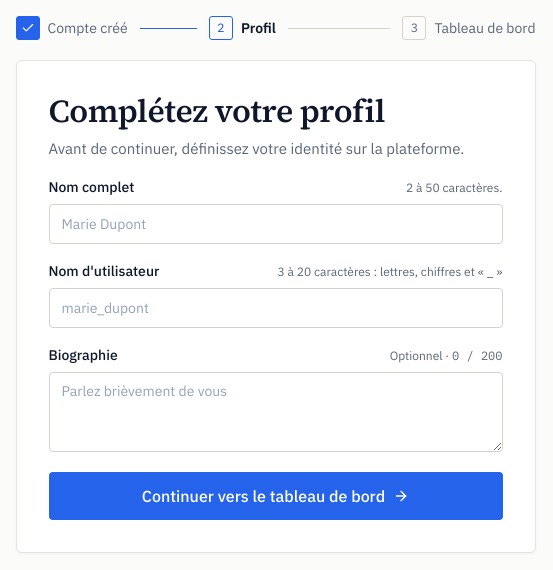
OnboardingForm (page bienvenue) › compte les caractères de la biographie
Expected: the text with test id "bio-counter" reads "0 / 200", [452,348,502,363]
Type "Résident" into the text box with placeholder "Parlez brièvement de vous".
click(276, 412); type("Résident")  # box [48,372,502,452]
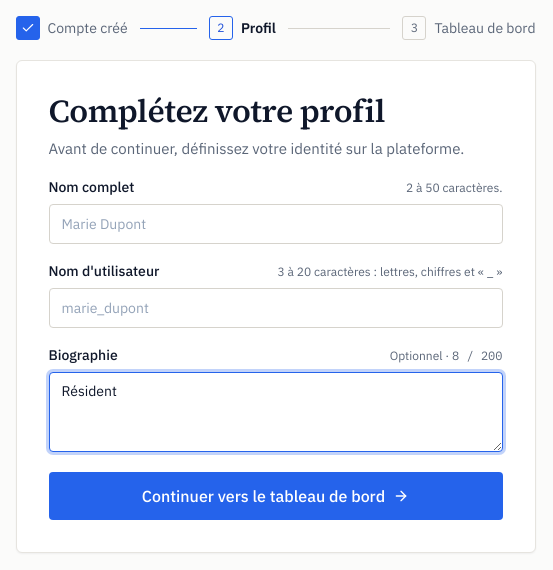
Expected: the text with test id "bio-counter" reads "8 / 200", [452,348,502,363]
